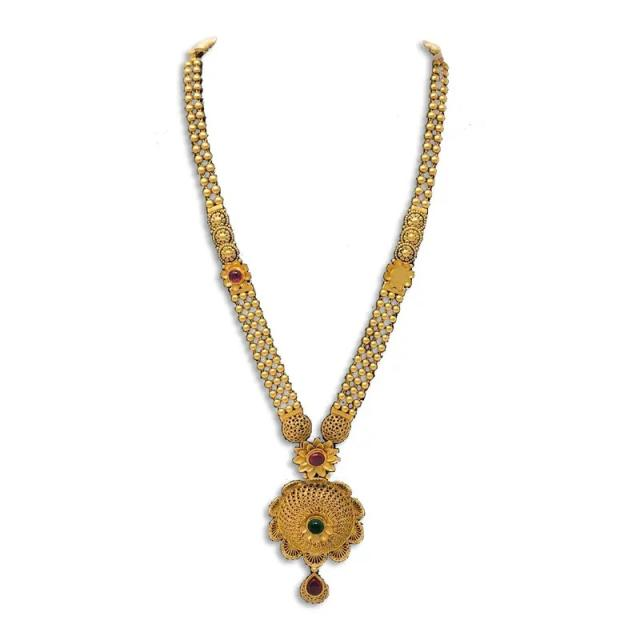missing gem: (390, 266, 407, 285)
